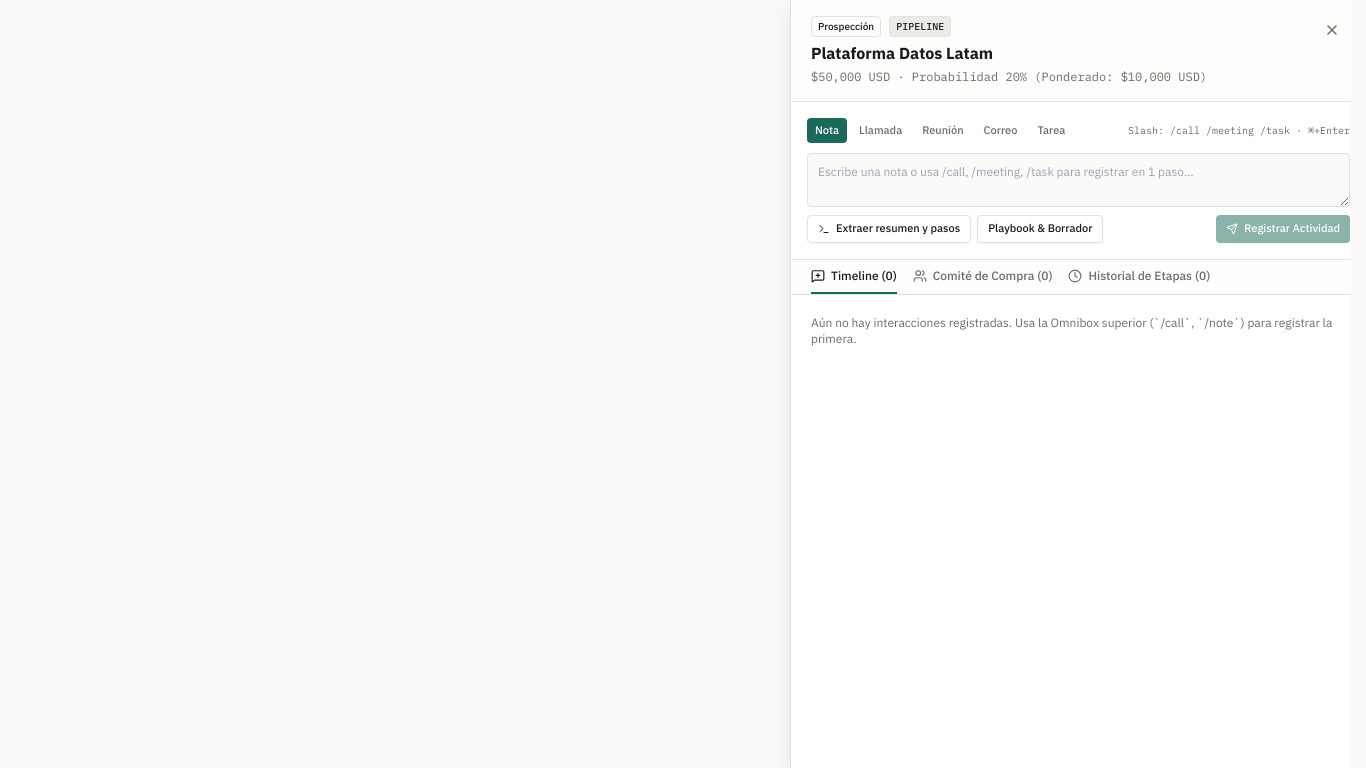
Test: Pipeline, Data Grid & Deal Peek Drawer Workflows › parses Omnibox slash commands (/call) inside DealPeekDrawer and logs interaction in-place
Type "/call Cliente confirmó presupuesto de $50k para diciembre" into the text box with placeholder "Escribe una nota o usa /call" at (1078, 180), box [807,152,1350,206]
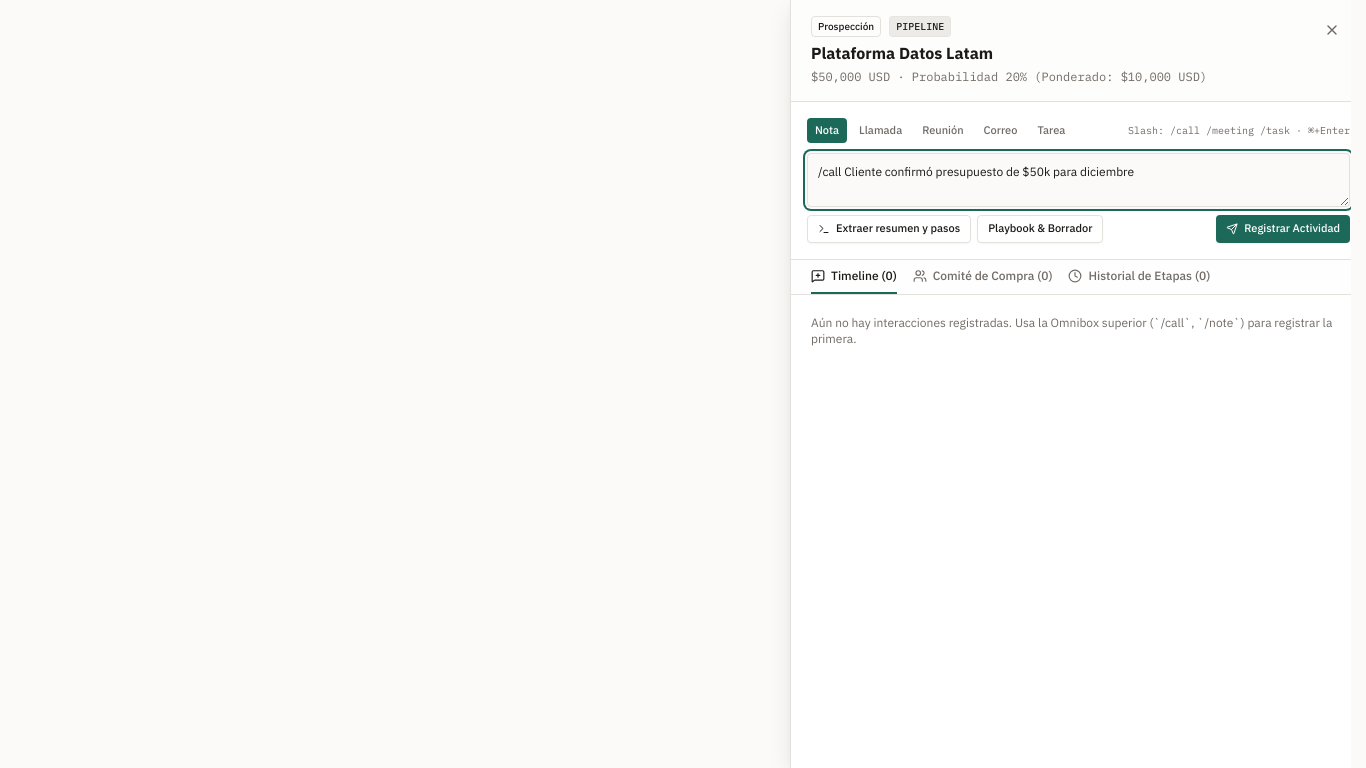
Click the button "Registrar Actividad" at (1283, 228), box [1216,214,1350,242]
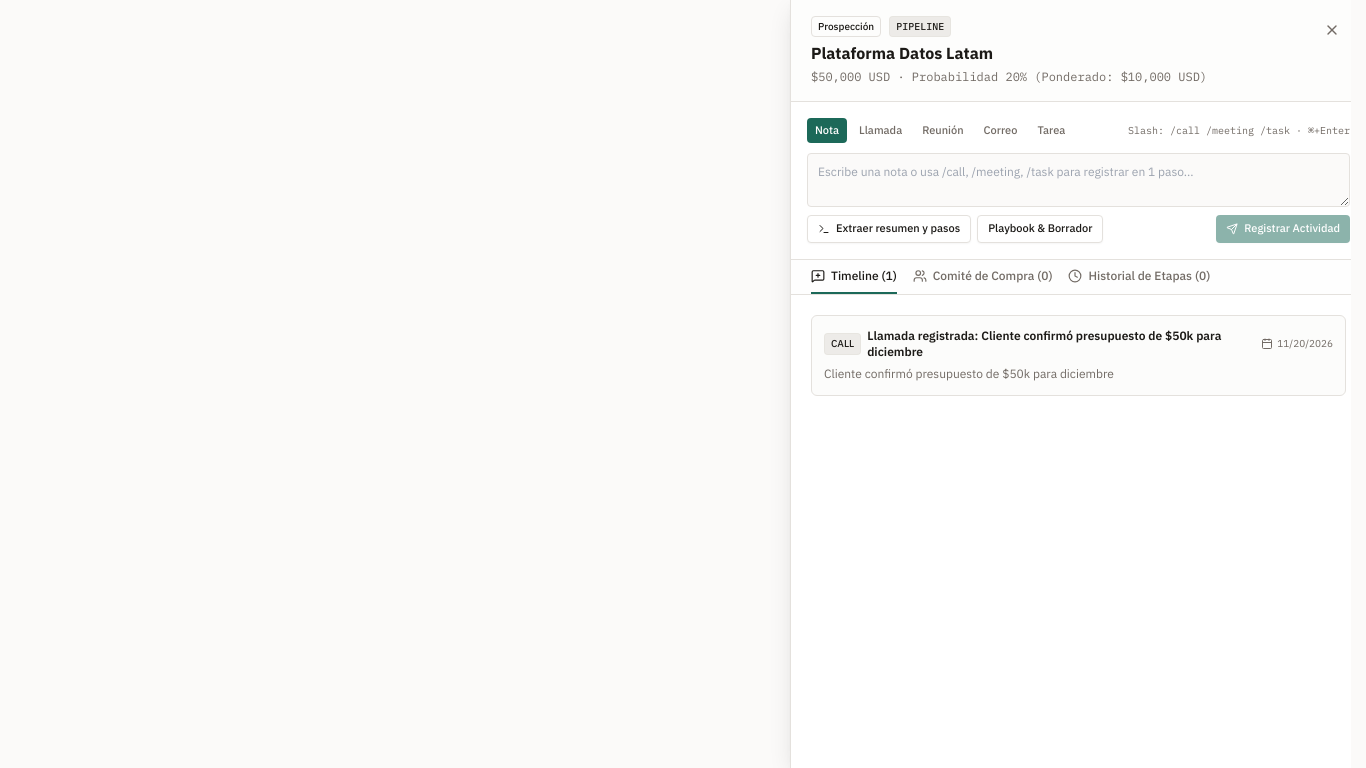
Expected: the text "Cliente confirmó presupuesto de $50k para diciembre" is shown, [824,366,1114,380]
